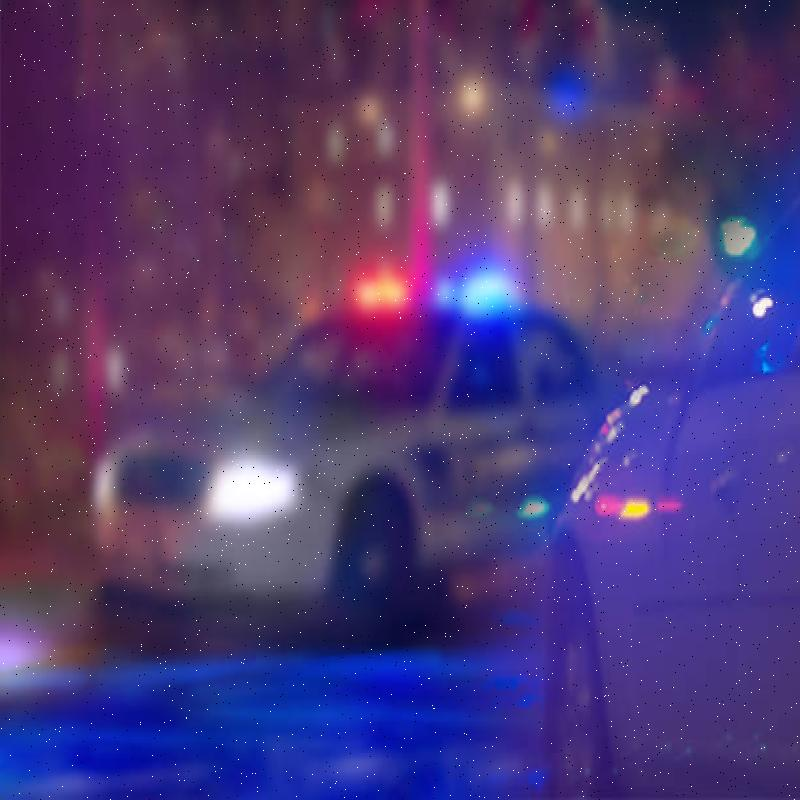AmbulanceSiren: (333, 263, 513, 334)
